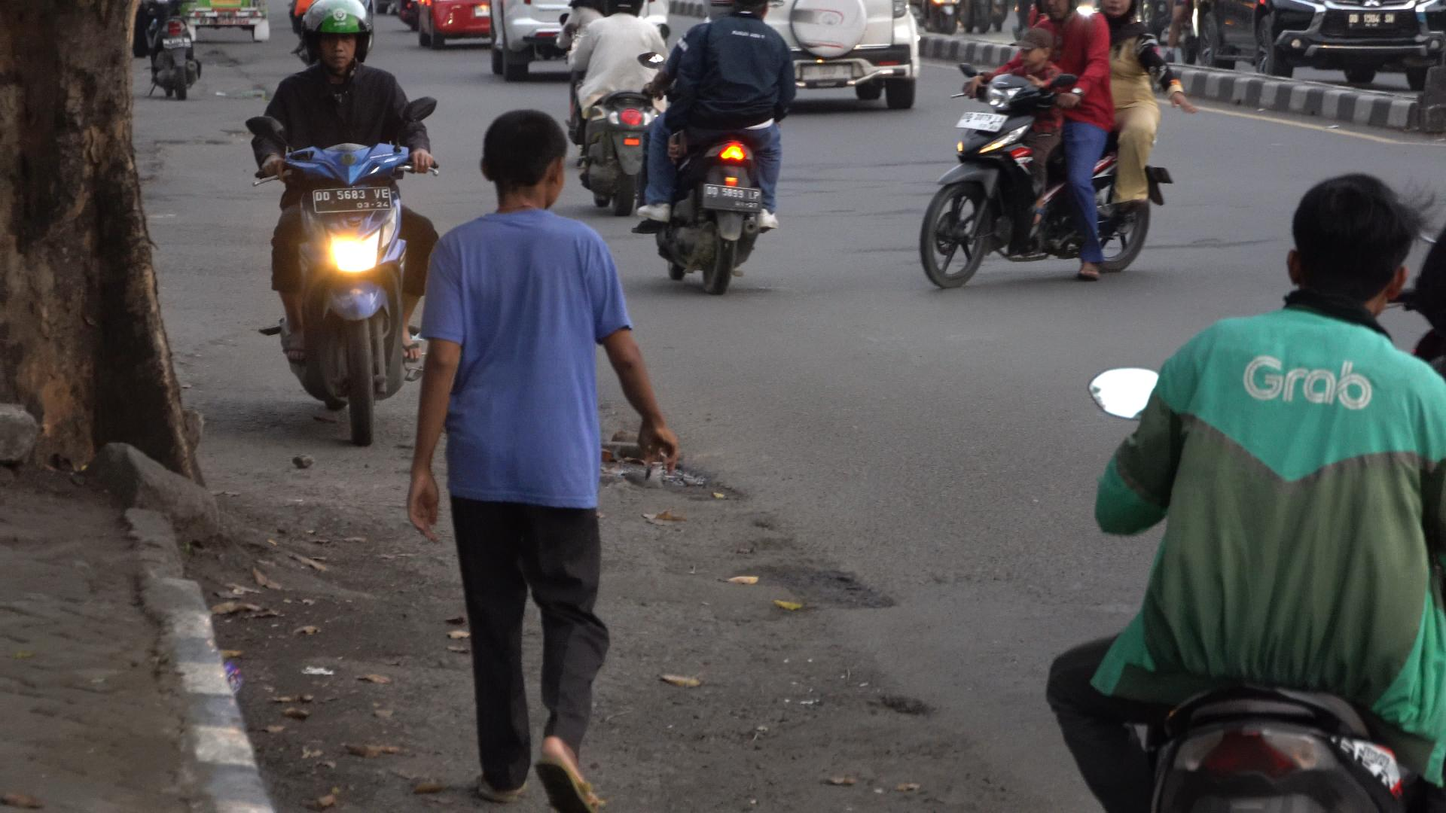number-plate: (310, 181, 392, 216)
